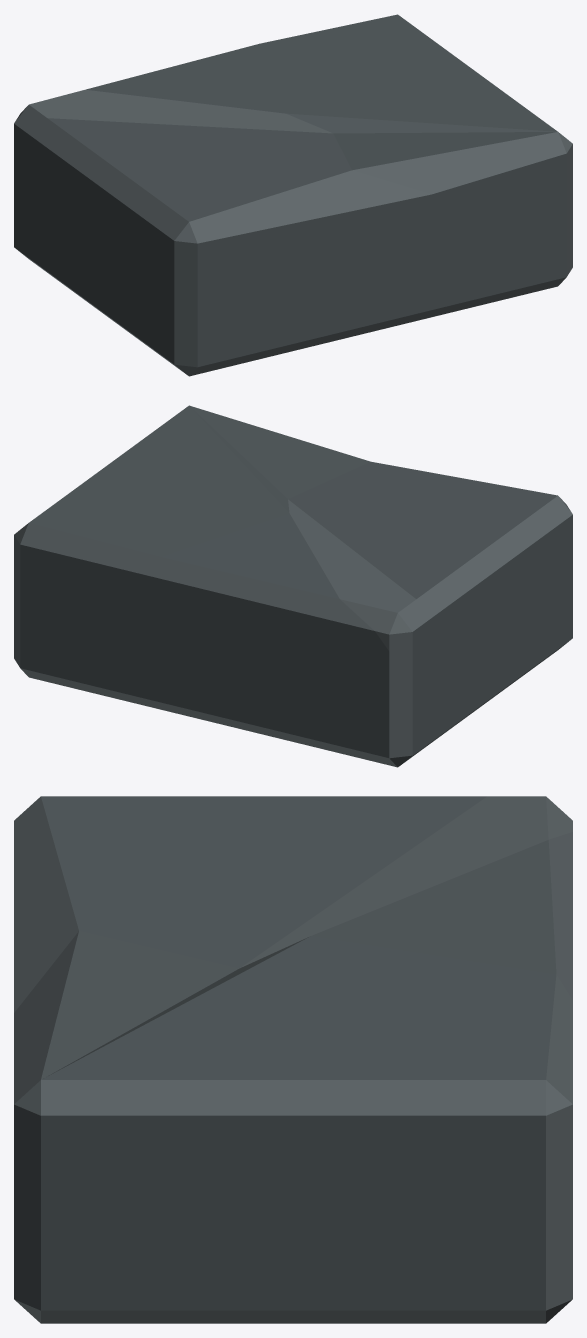
The model's file is Grey_Ingot.fbx.
3 views of the same model, one above another, from view 1: azimuth 30°, elevation 25°; view 2: azimuth 150°, elevation 25°; view 3: azimuth 270°, elevation 25° (orthographic). The views are drawn at different scales.
Parts seen in each view (by area): view 1: Grey_Ingot; view 2: Grey_Ingot; view 3: Grey_Ingot.
Boxes of the visible parts, x1,y1,x2,y2 form: Grey_Ingot: (14, 14, 572, 376); Grey_Ingot: (14, 405, 572, 767); Grey_Ingot: (14, 796, 572, 1323).
Size of the model in its own units: 18.97 by 7.09 by 14.62.
